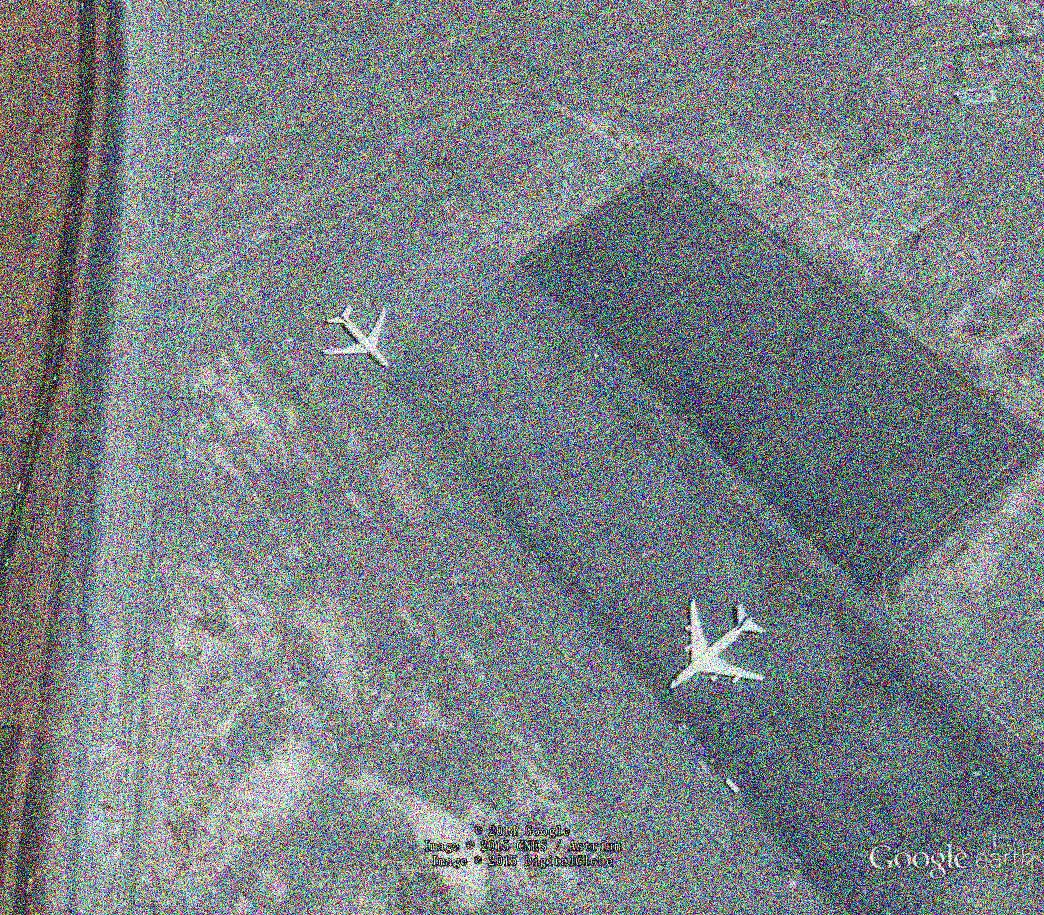aircraft: (663, 597, 771, 691), (316, 303, 397, 373)
